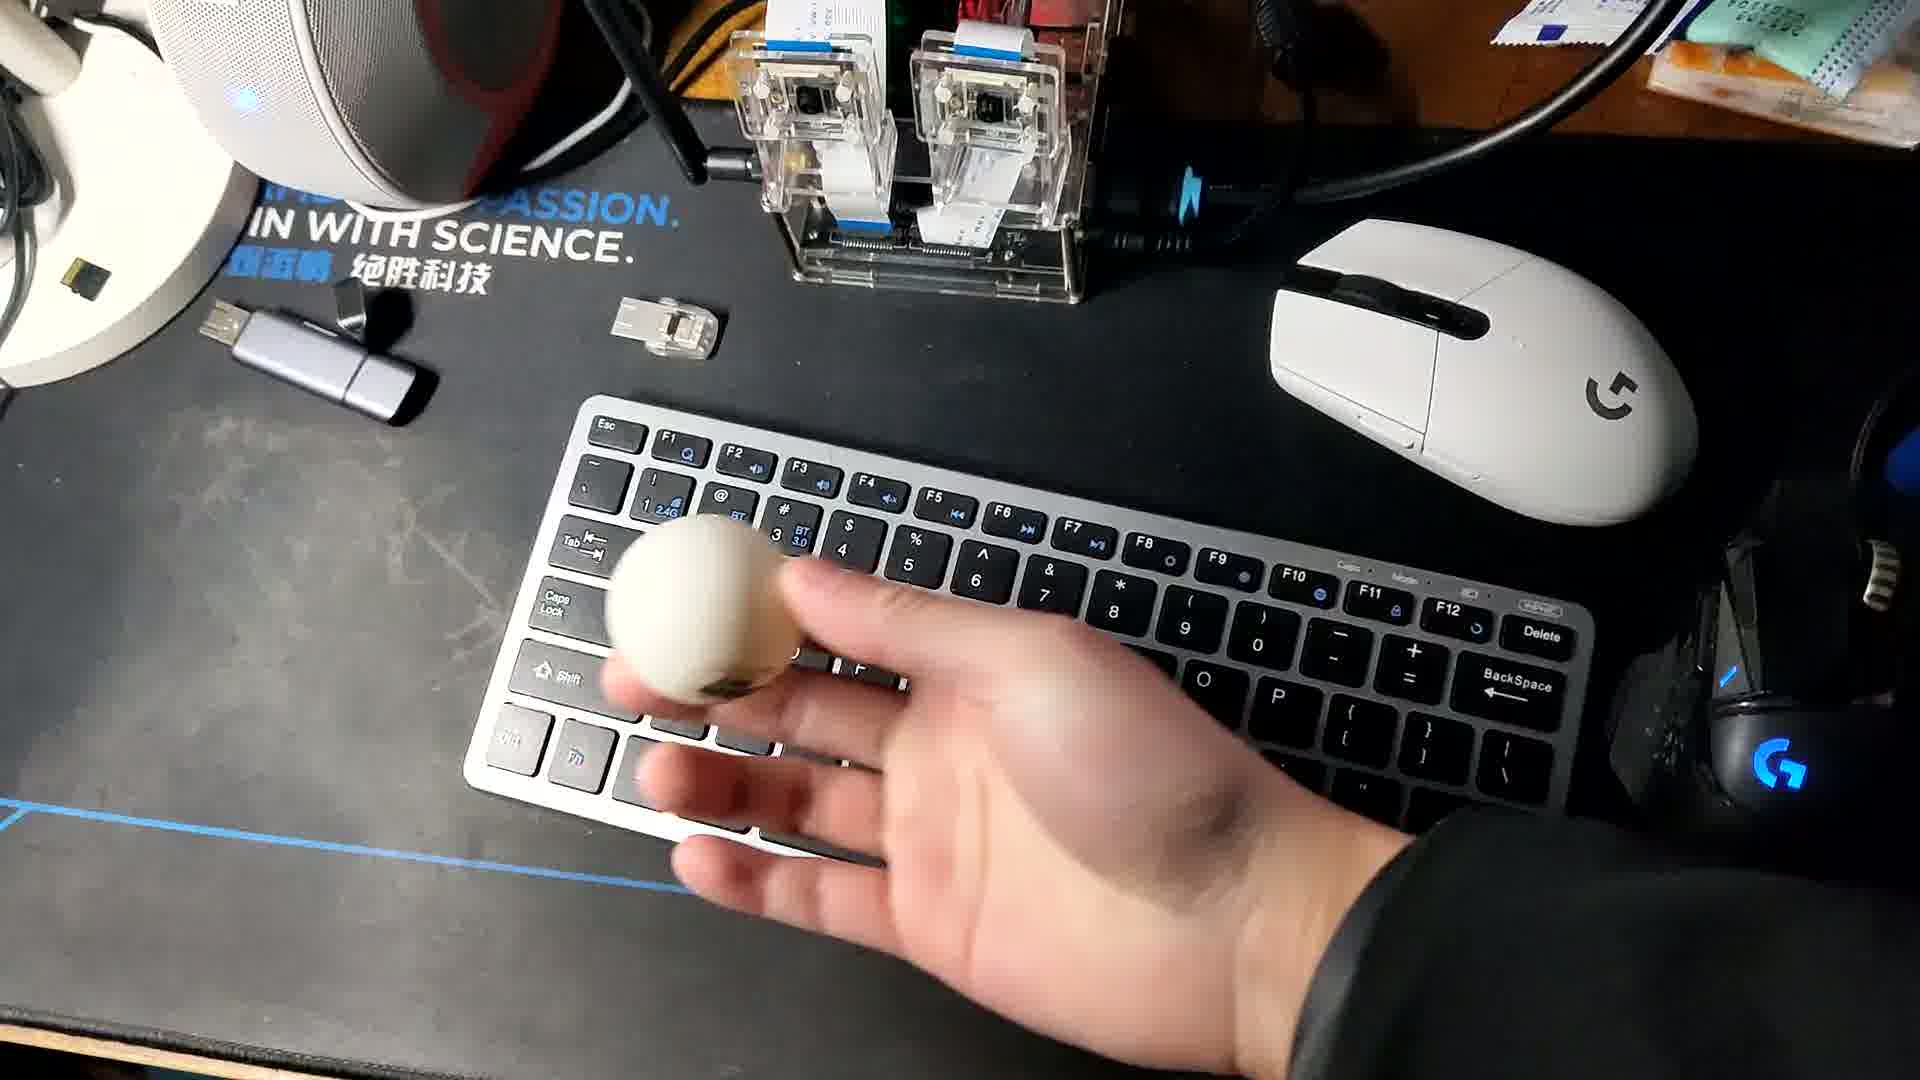Ball: (607, 508, 812, 708)
